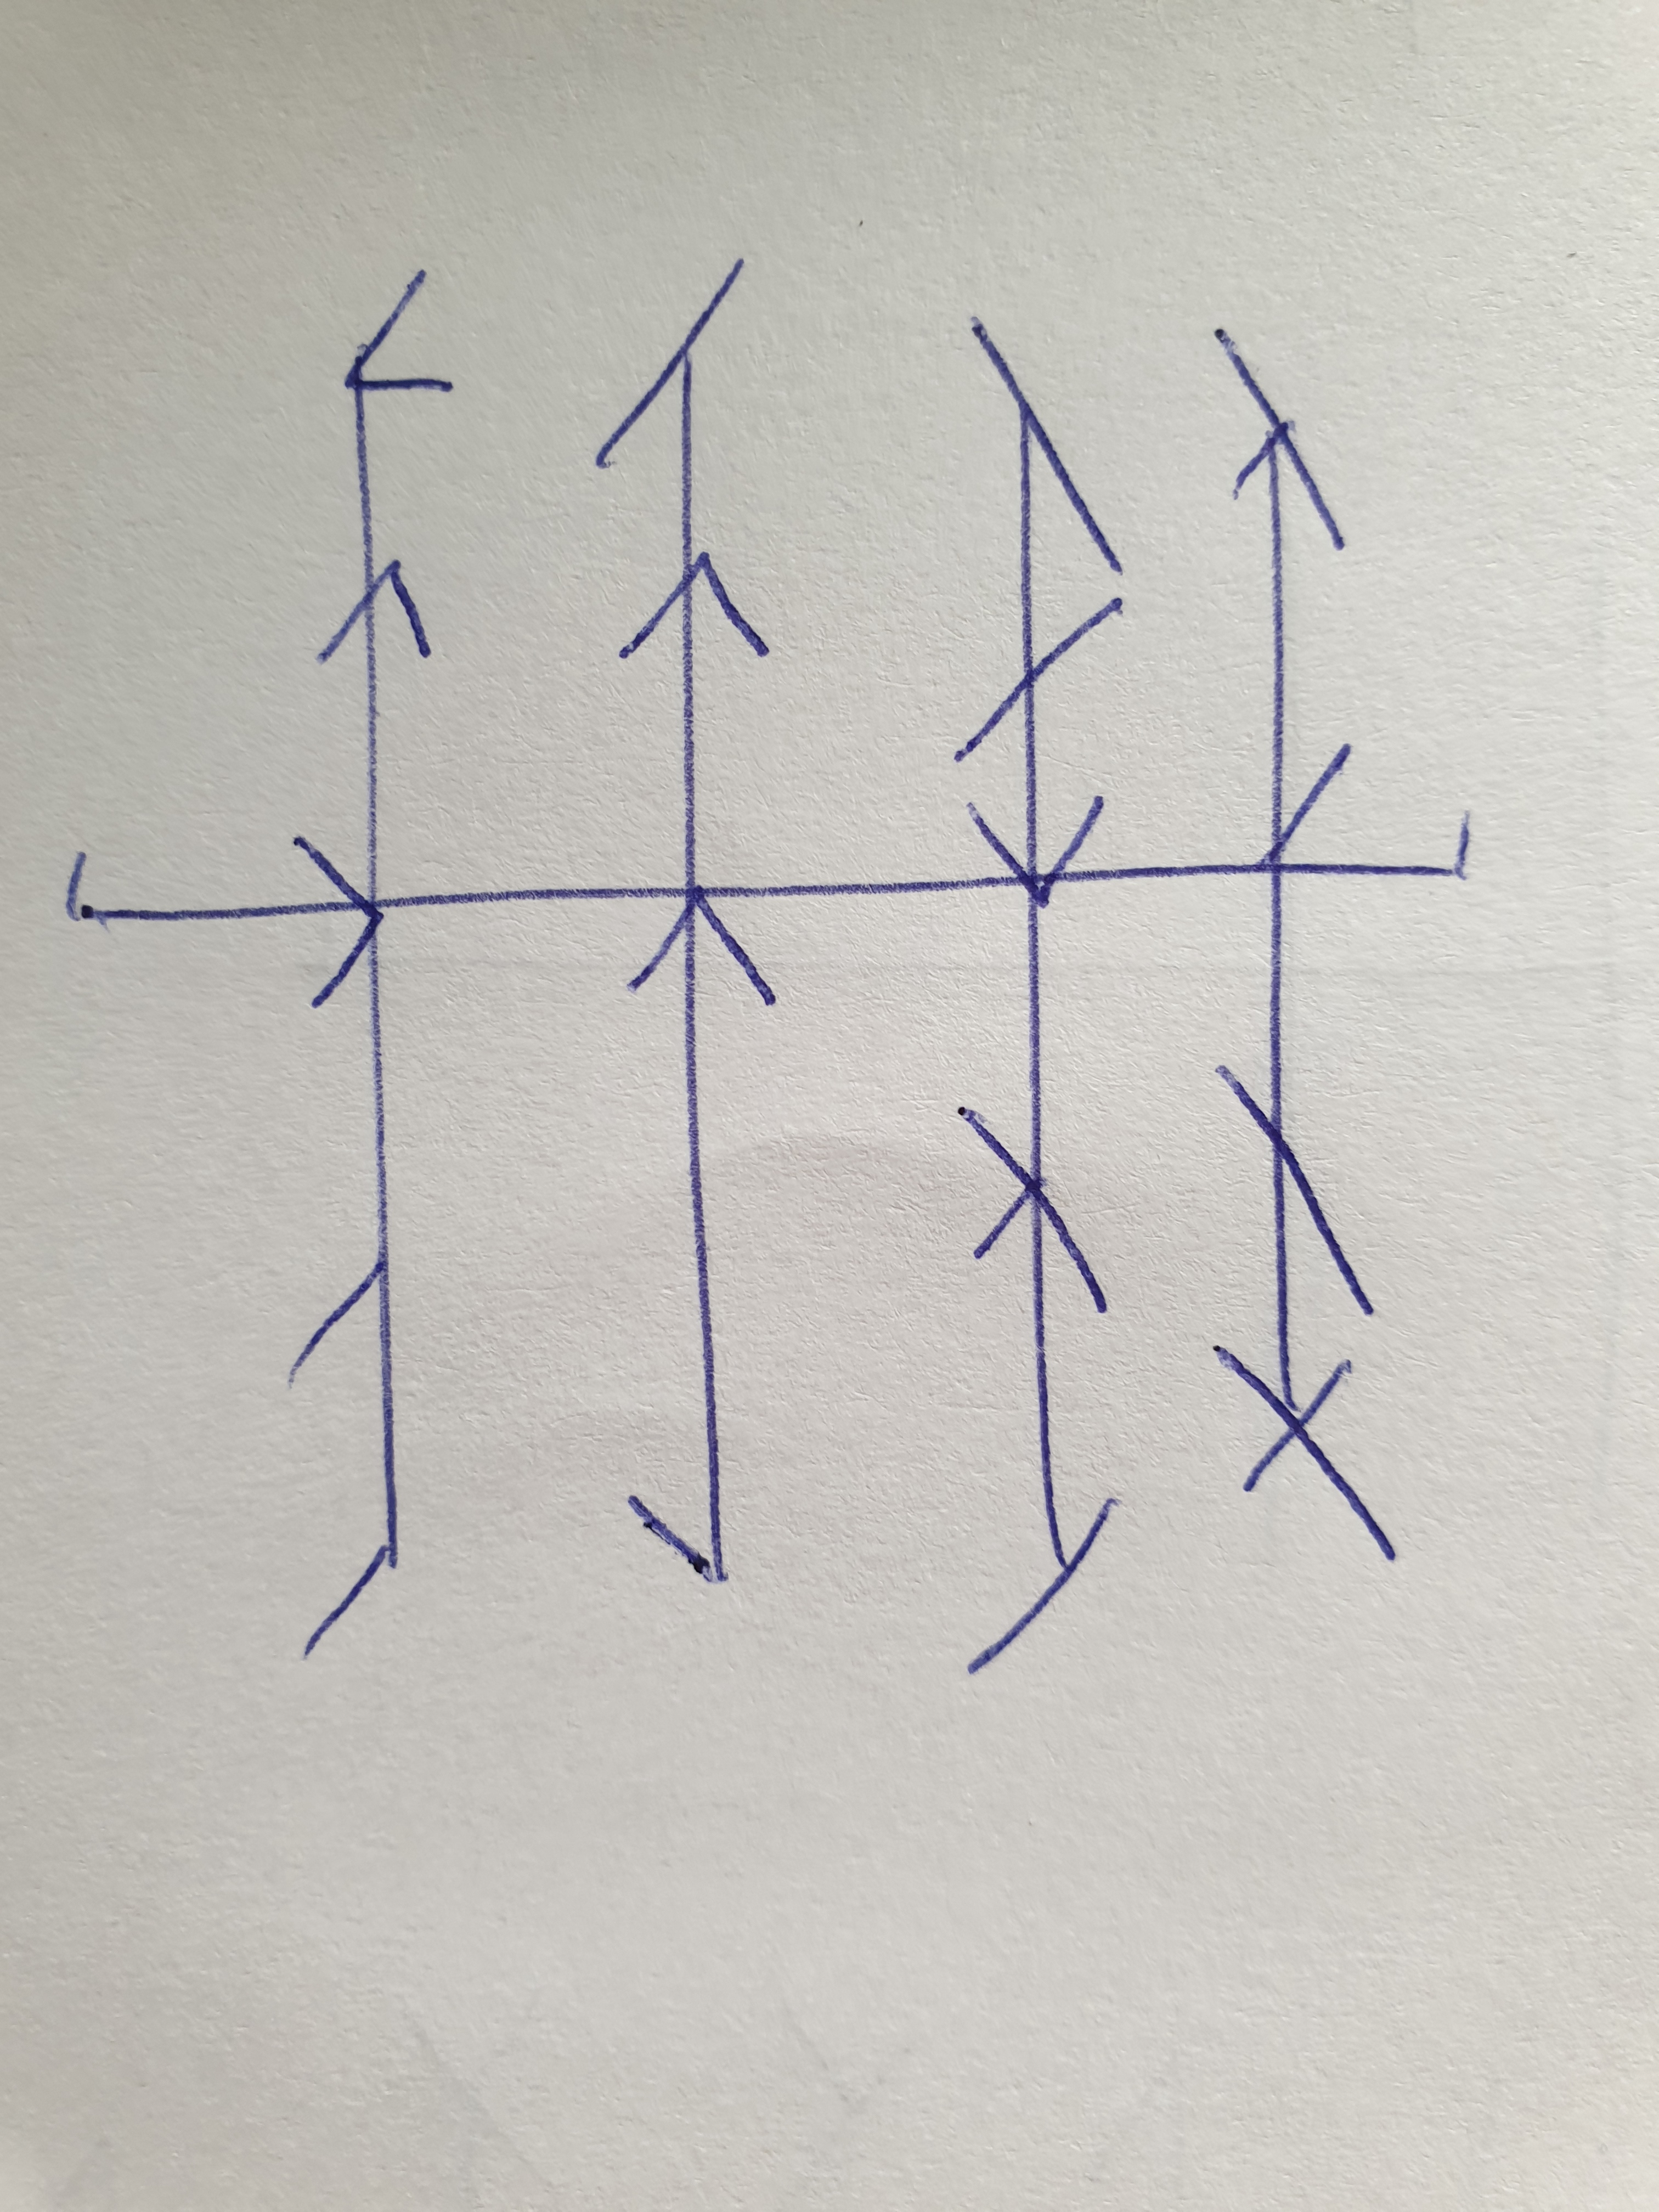Bar: (596, 254, 772, 1587), (953, 314, 1124, 1674), (291, 268, 457, 1655), (1213, 329, 1398, 1561)
Barcode: (63, 256, 1474, 1676)
End: (1314, 805, 1474, 885)
Start: (58, 848, 296, 923)
